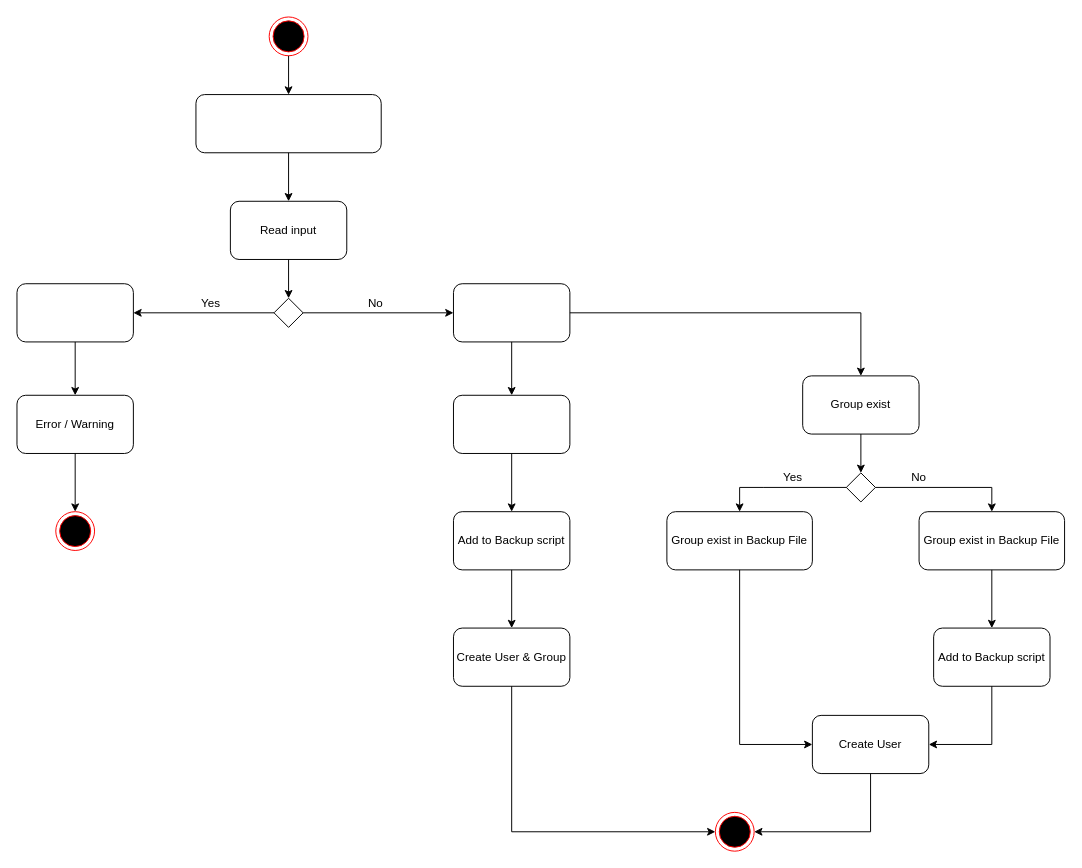
Image size: 1082x868. Some labels were removed from this diagram. The shapes that lost their labels are listed below. From the top down, each one's centre as x and y in pixels, then its label:
the point at 288,123: Print <username>, <group>, <firstname>, <lastname>
the point at 74,312: User exist
the point at 511,312: User doesn't exist
the point at 511,423: Groupe doesn't exist
